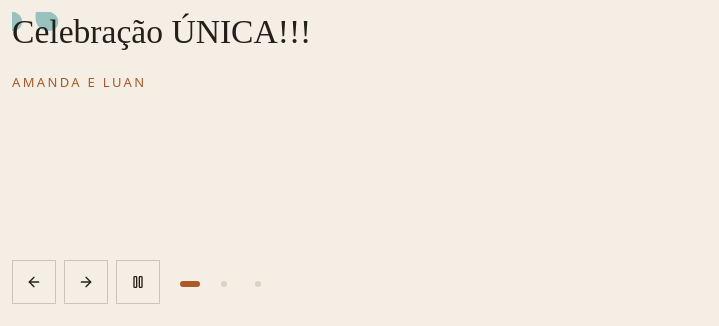
Test: TestimonialCarousel › circula do primeiro para o último ao voltar
The image size is (719, 326).
Click the 1st button named "Depoimento anterior" at {"x": 34, "y": 282}, box left=12, top=260, right=56, bottom=304
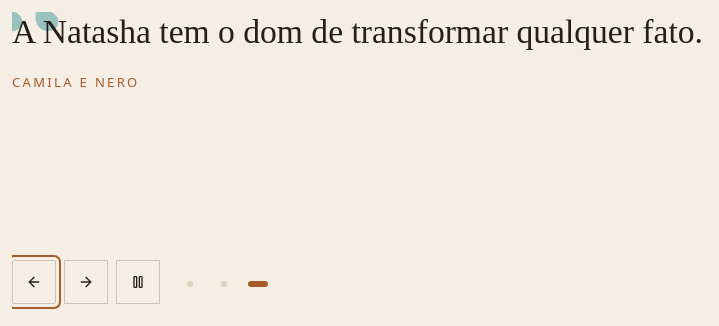
expect the text "A Natasha tem o dom de transformar qualquer fato." is shown: met, box left=12, top=13, right=703, bottom=50
